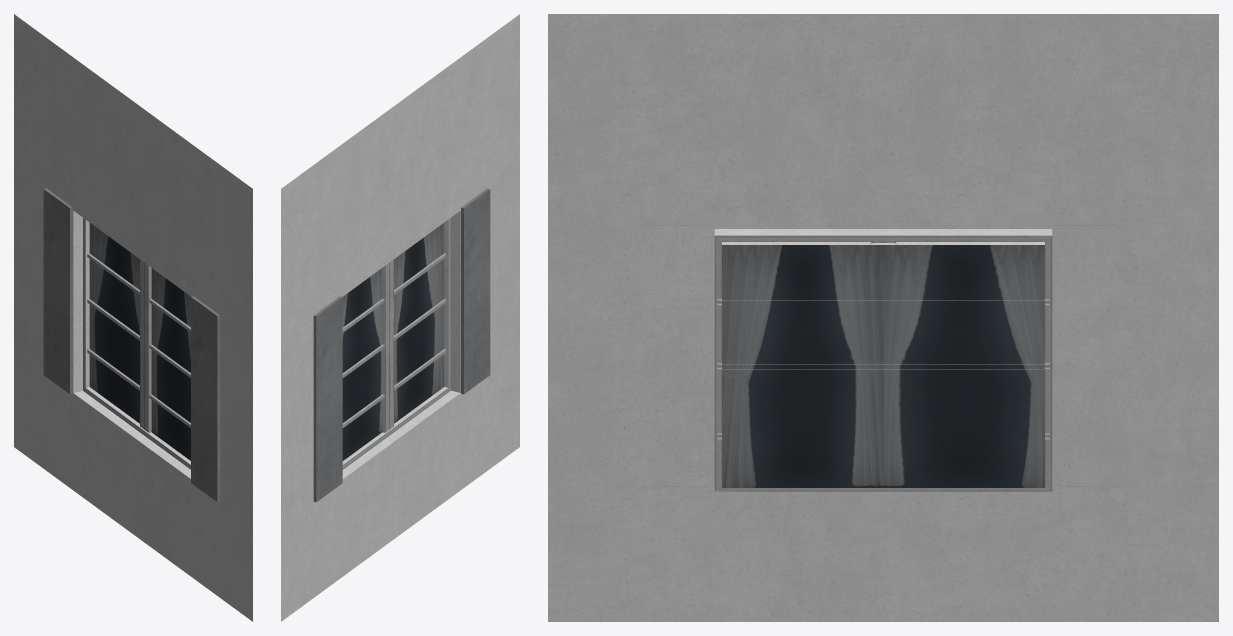
Rendered from MB_Wall_Window_A_21.fbx.
The picture shows the model from 3 angles, left to right: view 1: azimuth 30°, elevation 25°; view 2: azimuth 150°, elevation 25°; view 3: azimuth 270°, elevation 25°; orthographic projection. The views are drawn at different scales.
Visible parts, largest first — view 1: MB_Wall_Window_A_21; view 2: MB_Wall_Window_A_21; view 3: MB_Wall_Window_A_21.
Part boxes in pixels (box(x1,y1,x2,y2)): MB_Wall_Window_A_21: box(14, 14, 252, 621); MB_Wall_Window_A_21: box(281, 14, 519, 621); MB_Wall_Window_A_21: box(548, 14, 1218, 621).
Size of the model in its own units: 16.16 by 400 by 400.
